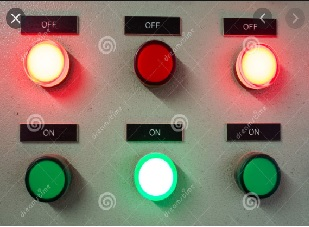Green_Led_Off: (23, 154, 70, 204), (238, 151, 282, 199)
Green_Led_On: (134, 152, 179, 201)
Red_Led_Off: (132, 38, 178, 87)
Red_Led_On: (21, 37, 71, 87), (236, 42, 280, 91)
